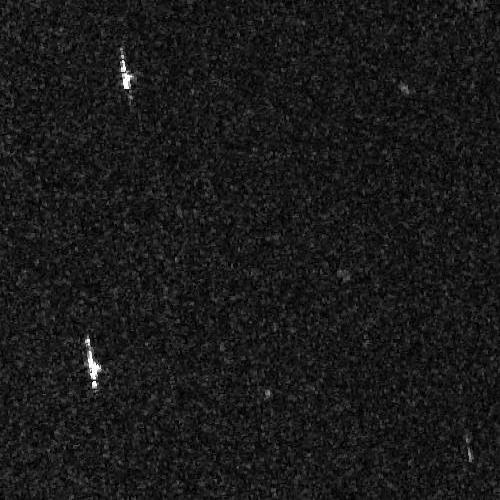ship: (84, 336, 102, 393), (119, 50, 132, 92)
